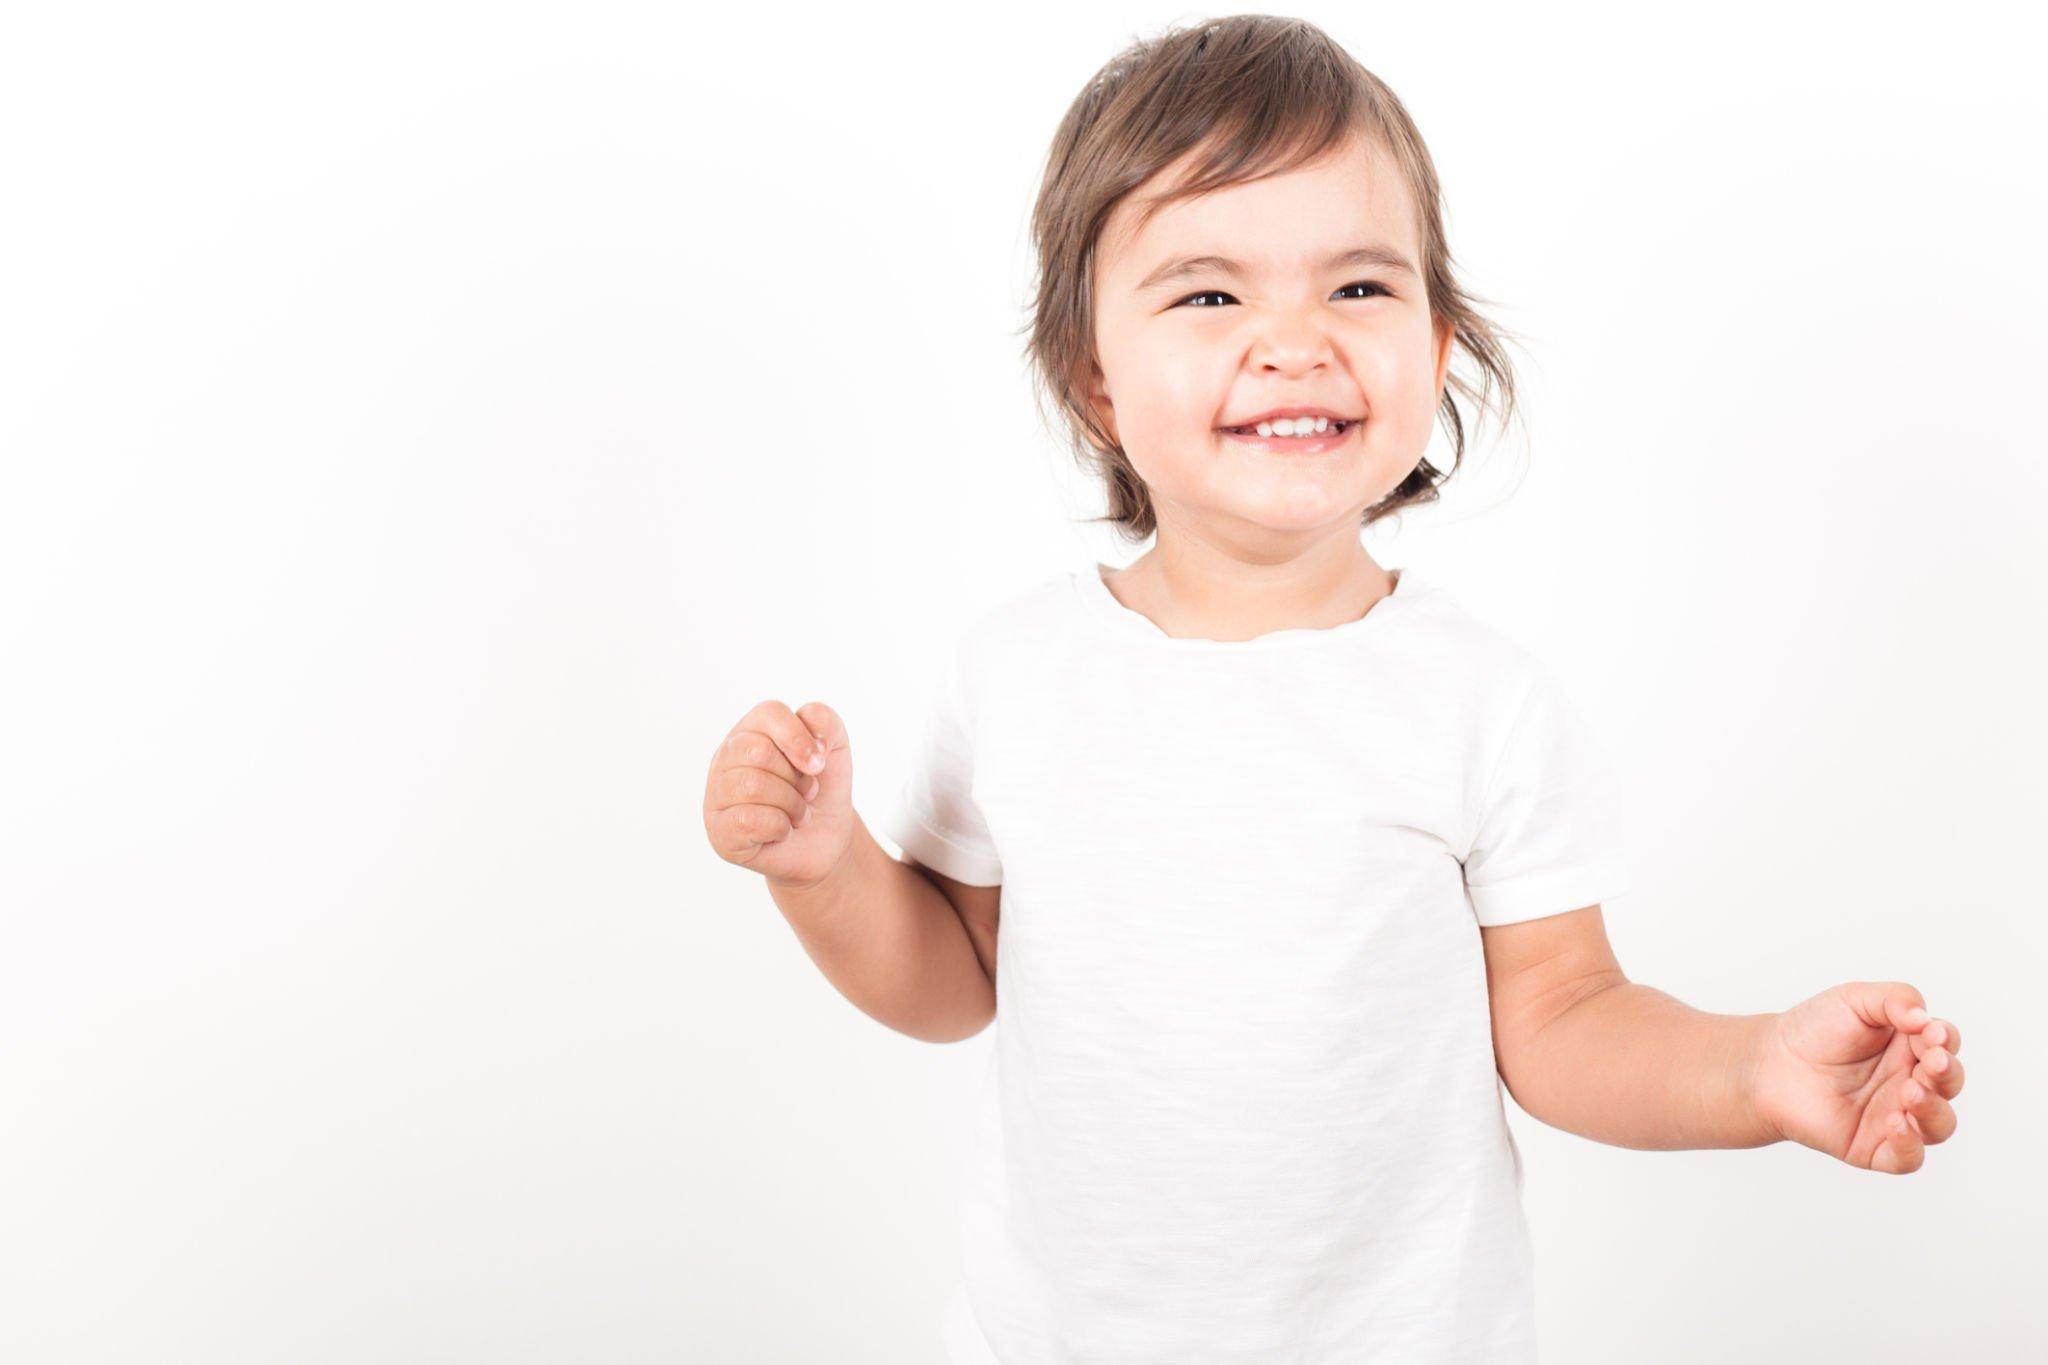Healthy: (1037, 107, 1479, 565)
